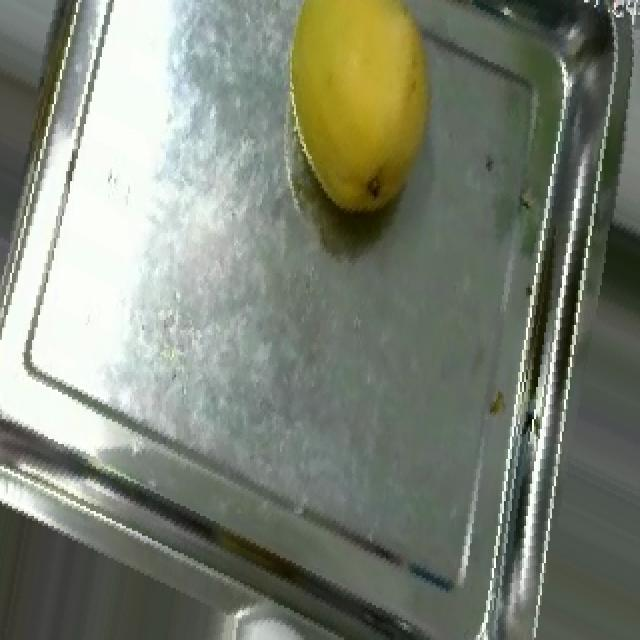fruit: (238, 0, 474, 238)
